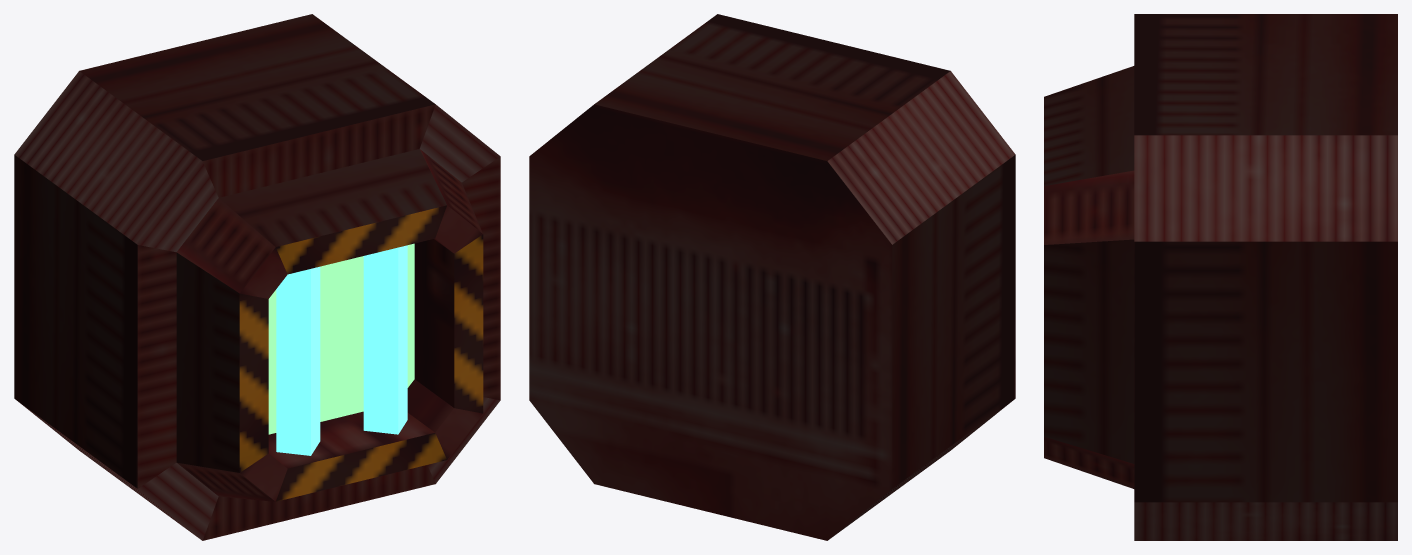
The model's file is Fusebox.fbx.
The picture shows the model from 3 angles, left to right: view 1: azimuth 30°, elevation 25°; view 2: azimuth 150°, elevation 25°; view 3: azimuth 270°, elevation 25°; orthographic projection. The views are drawn at different scales.
Visible parts, largest first — view 1: FuseBox; view 2: FuseBox; view 3: FuseBox.
Boxes of the visible parts, x1=… form: FuseBox: x1=14, y1=14, x2=500, y2=540; FuseBox: x1=529, y1=14, x2=1015, y2=540; FuseBox: x1=1044, y1=14, x2=1397, y2=540.
Bounding box in the file's own units: 75.39 × 75.39 × 59.61.
